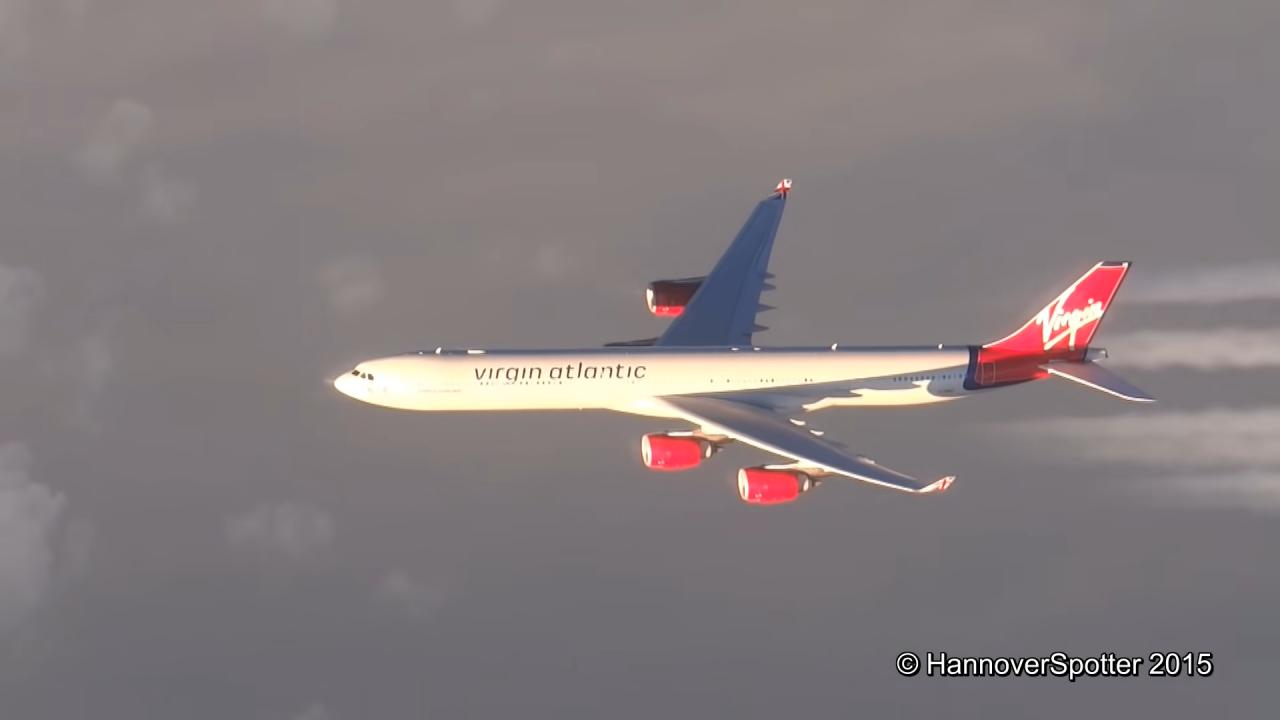Airplane: (325, 165, 1172, 519)
